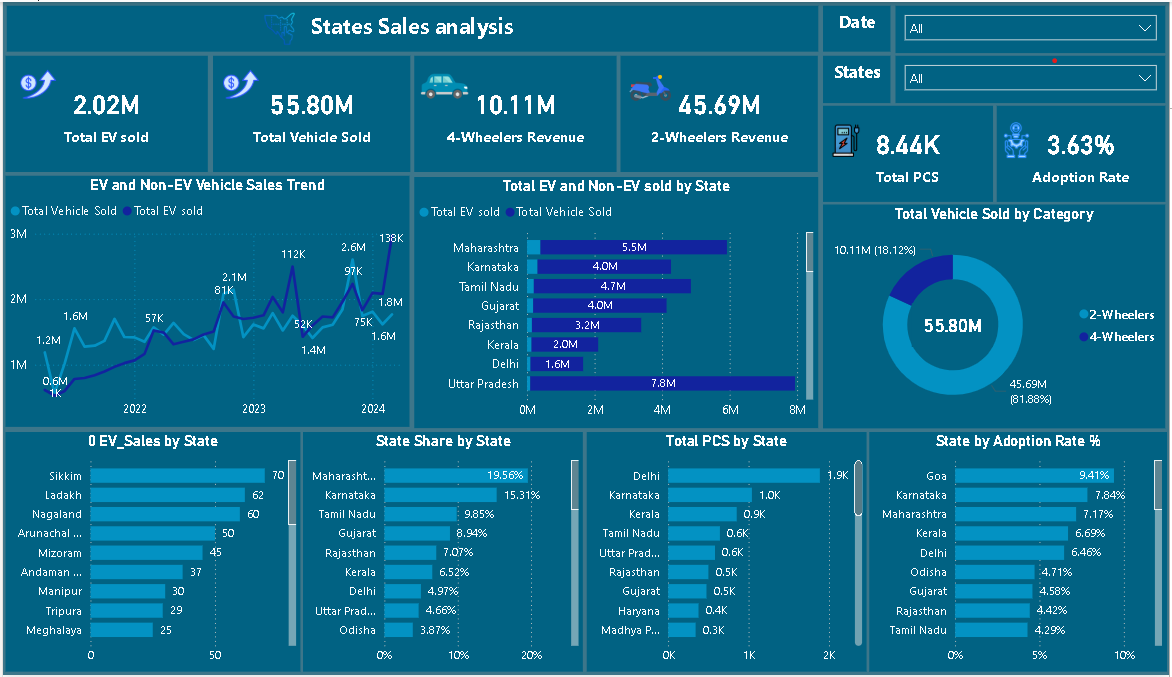

What the dashboard file says about the page in this screenshot:
{"tool":"powerbi","page":{"name":"State analysis","canvas":[1300,750],"ordinal":1},"visuals":[{"type":"card","fields":{"Values":["Charging_Units_Unclean.Total PCS"]},"box":[914.2,115.7,189.5,107.3],"z":0,"group":"g7"},{"type":"barChart","title":"Total PCS by State","fields":{"Category":["EV_Sales_By_State_Unclean.Cleaned-State"],"Y":["Charging_Units_Unclean.Total PCS"]},"box":[650.8,479.4,312.2,267.6],"z":0},{"type":"slicer","fields":{"Values":["EV_Sales_By_State_Unclean.cleaned-state"]},"box":[995.1,59.9,301,53],"z":1000},{"type":"lineChart","title":"EV and Non-EV Vehicle Sales Trends","fields":{"Category":["EV_Sales_By_State.date"],"Y":["EV_Sales_By_State_Unclean.Total Vehicle Sold"],"Y2":["EV_Sales_By_State.Total EV sold"]},"box":[2.8,193.7,450.2,280.1],"z":2000},{"type":"slicer","fields":{"Values":["EV_Sales_By_State.date"]},"box":[995.1,4.2,301,53],"z":3000},{"type":"barChart","title":"Total EV and Non-EV sold by State","fields":{"Y":["EV_Sales_By_State.Total EV sold","EV_Sales_By_State.Total Vehicle Sold"],"Category":["EV_Sales_By_State.Cleaned-State"]},"box":[458.5,195.1,450.2,280.1],"z":4000},{"type":"card","fields":{"Values":["EV_Sales_By_State.Penetration %"]},"box":[1108,115.7,188.1,107.3],"z":5000},{"type":"card","fields":{"Values":["EV_Sales_By_State_Unclean.Total EV sold"]},"box":[2.8,59.9,225.8,129.6],"z":6000,"group":"g5"},{"type":"barChart","title":"State by Adoption Rate %","fields":{"Category":["EV_Sales_By_State.Cleaned-State"],"Y":["EV_Sales_By_State.Ev_Adoption Rate"]},"box":[965.8,479.4,331.7,267.6],"z":6000},{"type":"card","fields":{"Values":["EV_Sales_By_State.Total Vehicle Sold"]},"box":[234.1,59.9,220.2,129.6],"z":7000,"group":"g6"},{"type":"card","fields":{"Values":["EV_Sales_By_State.2-Wheelers Revenue"]},"box":[688.5,59.9,220.2,129.6],"z":7000,"group":"g3"},{"type":"barChart","title":"State Share by State","fields":{"Category":["EV_Sales_By_State.Cleaned-State"],"Y":["EV_Sales_By_State.State Share"]},"box":[334.5,479.4,312.2,267.6],"z":7000},{"type":"card","fields":{"Values":["EV_Sales_By_State.4-Wheelers Revenue"]},"box":[458.6,59.9,225.8,129.6],"z":8000,"group":"g2"},{"type":"barChart","title":"0 EV_Sales by State","fields":{"Y":["EV_Sales_By_State.State with 0 sales"],"Category":["EV_Sales_By_State.state"]},"box":[2.8,479.4,328.9,267.6],"z":8000},{"type":"group","id":"g1","title":"Group 1","box":[914.2,225.8,381.9,249.5],"z":9000},{"type":"textbox","box":[914.2,4.2,75.3,51.6],"z":10000},{"type":"donutChart","title":"Total Vehicle Sold by Category","fields":{"Category":["EV_Sales_By_State_Unclean.vehicle_category"],"Y":["EV_Sales_By_State_Unclean.Total Vehicle Sold"]},"box":[914.2,225.8,381.9,249.5],"z":10000,"group":"g1"},{"type":"textbox","box":[914.2,59.9,75.3,53],"z":11000},{"type":"textbox","box":[4.2,4.2,904.5,51.6],"z":12000,"group":"g4"},{"type":"group","id":"g2","title":"Group 2","box":[457,59.9,227.3,129.6],"z":12000},{"type":"group","id":"g3","title":"Group 3","box":[688.5,59.9,220.2,129.6],"z":13000},{"type":"group","id":"g4","title":"Group 4","box":[4.2,4.2,904.5,51.6],"z":14000},{"type":"group","id":"g5","title":"Group 5","box":[2.8,59.9,225.8,129.6],"z":15000},{"type":"card","fields":{"Values":["EV_Sales_By_State.Total Vehicle Sold"]},"box":[1013.1,335.9,90.6,48.8],"z":15001,"group":"g1"},{"type":"group","id":"g6","title":"Group 6","box":[234.1,59.9,220.2,129.6],"z":16000},{"type":"group","id":"g7","title":"Group 7","box":[914.2,115.7,189.5,107.3],"z":17000},{"type":"image","box":[457,62.8,69.7,62.7],"z":17001,"group":"g2"},{"type":"image","box":[5.6,66.9,66.9,50.2],"z":17001,"group":"g5"},{"type":"image","box":[239.7,66.9,51.6,50.2],"z":17002,"group":"g6"},{"type":"image","box":[692,64.2,58.5,61.3],"z":17003,"group":"g3"},{"type":"image","box":[273.2,4.2,71.1,51.6],"z":17005,"group":"g4"},{"type":"image","box":[917,125.5,46,58.5],"z":17005,"group":"g7"},{"type":"image","box":[1105.2,126.8,50.2,54.4],"z":18000}]}

Visuals, with their boxes in screenshot pixels (x1, y1, x2, y2), scaled from the page's 1300x750 canvas onto the 1172x677 screenshot:
card - Charging_Units_Unclean.Total PCS: [824,104,995,201]
"Total PCS by State" barChart: [587,433,868,674]
slicer - EV_Sales_By_State_Unclean.cleaned-state: [897,54,1168,102]
"EV and Non-EV Vehicle Sales Trends" lineChart: [3,175,408,428]
slicer - EV_Sales_By_State.date: [897,4,1168,52]
"Total EV and Non-EV sold by State" barChart: [413,176,819,429]
card - EV_Sales_By_State.Penetration %: [999,104,1168,201]
card - EV_Sales_By_State_Unclean.Total EV sold: [3,54,206,171]
"State by Adoption Rate %" barChart: [871,433,1170,674]
card - EV_Sales_By_State.Total Vehicle Sold: [211,54,410,171]
card - EV_Sales_By_State.2-Wheelers Revenue: [621,54,819,171]
"State Share by State" barChart: [302,433,583,674]
card - EV_Sales_By_State.4-Wheelers Revenue: [413,54,617,171]
"0 EV_Sales by State" barChart: [3,433,299,674]
"Group 1" group: [824,204,1168,429]
textbox: [824,4,892,50]
"Total Vehicle Sold by Category" donutChart: [824,204,1168,429]
textbox: [824,54,892,102]
textbox: [4,4,819,50]
"Group 2" group: [412,54,617,171]
"Group 3" group: [621,54,819,171]
"Group 4" group: [4,4,819,50]
"Group 5" group: [3,54,206,171]
card - EV_Sales_By_State.Total Vehicle Sold: [913,303,995,347]
"Group 6" group: [211,54,410,171]
"Group 7" group: [824,104,995,201]
image: [412,57,475,113]
image: [5,60,65,106]
image: [216,60,263,106]
image: [624,58,677,113]
image: [246,4,310,50]
image: [827,113,868,166]
image: [996,114,1042,164]
